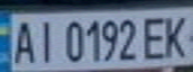0: (60, 16, 84, 63)
1: (81, 16, 103, 63)
2: (115, 15, 142, 62)
9: (100, 16, 121, 62)
A: (6, 16, 39, 65)
E: (139, 12, 172, 61)
I: (30, 17, 60, 64)
K: (160, 11, 193, 60)
